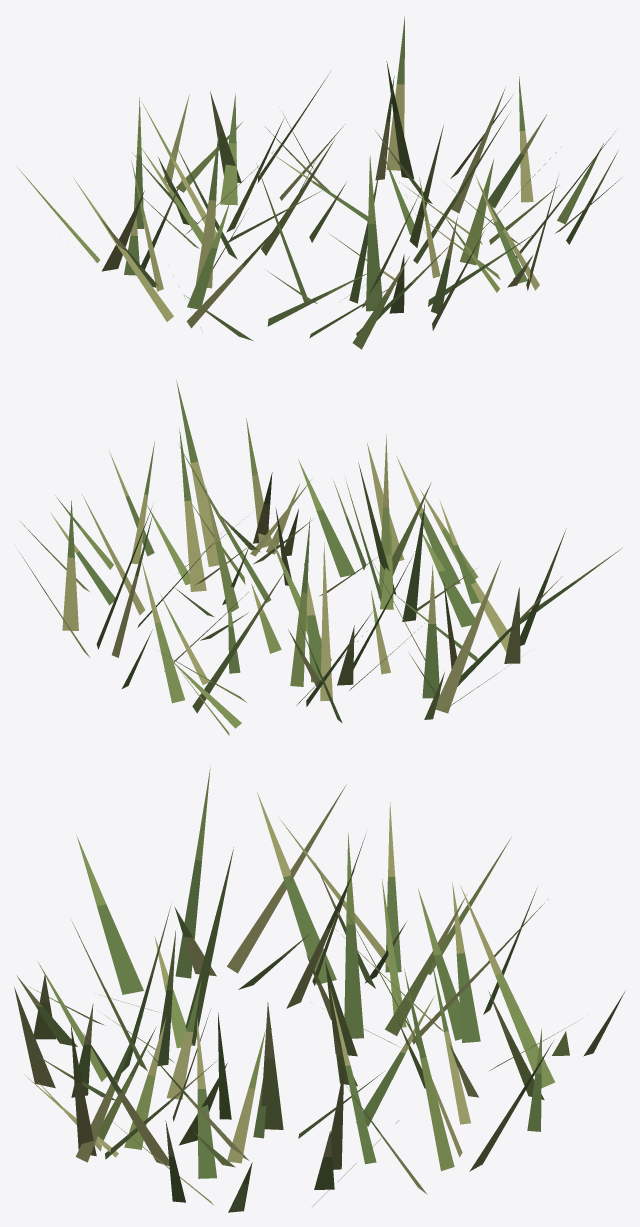
The model's file is rough_grass-mid.glb.
3 views of the same model, one above another, from view 1: azimuth 30°, elevation 25°; view 2: azimuth 150°, elevation 25°; view 3: azimuth 270°, elevation 25° (orthographic). The views are drawn at different scales.
Parts seen in each view (by area): view 1: Rough grass tuft - decorative; view 2: Rough grass tuft - decorative; view 3: Rough grass tuft - decorative.
Boxes of the visible parts, x1,y1,x2,y2 form: Rough grass tuft - decorative: (16, 16, 621, 349); Rough grass tuft - decorative: (19, 380, 621, 735); Rough grass tuft - decorative: (14, 766, 625, 1212).
Bounding box in the file's own units: 3.89 × 0.9859 × 3.05.
